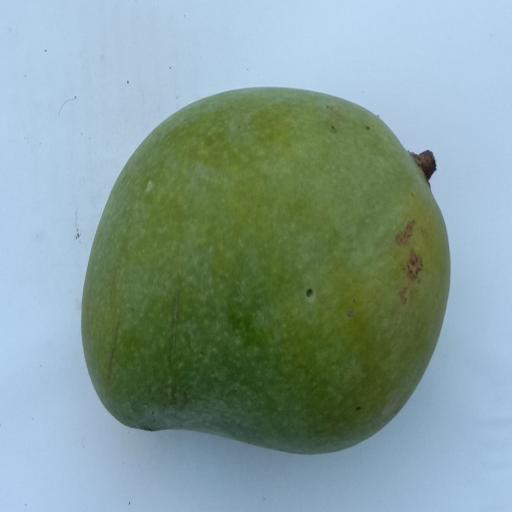mango-unripe: (54, 65, 468, 475)
